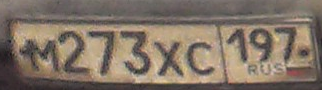character: (60, 28, 92, 79), (118, 26, 150, 75), (24, 35, 59, 75), (89, 26, 116, 77), (185, 38, 216, 76), (154, 41, 183, 78), (225, 25, 250, 67), (249, 24, 275, 64), (271, 25, 299, 62)
